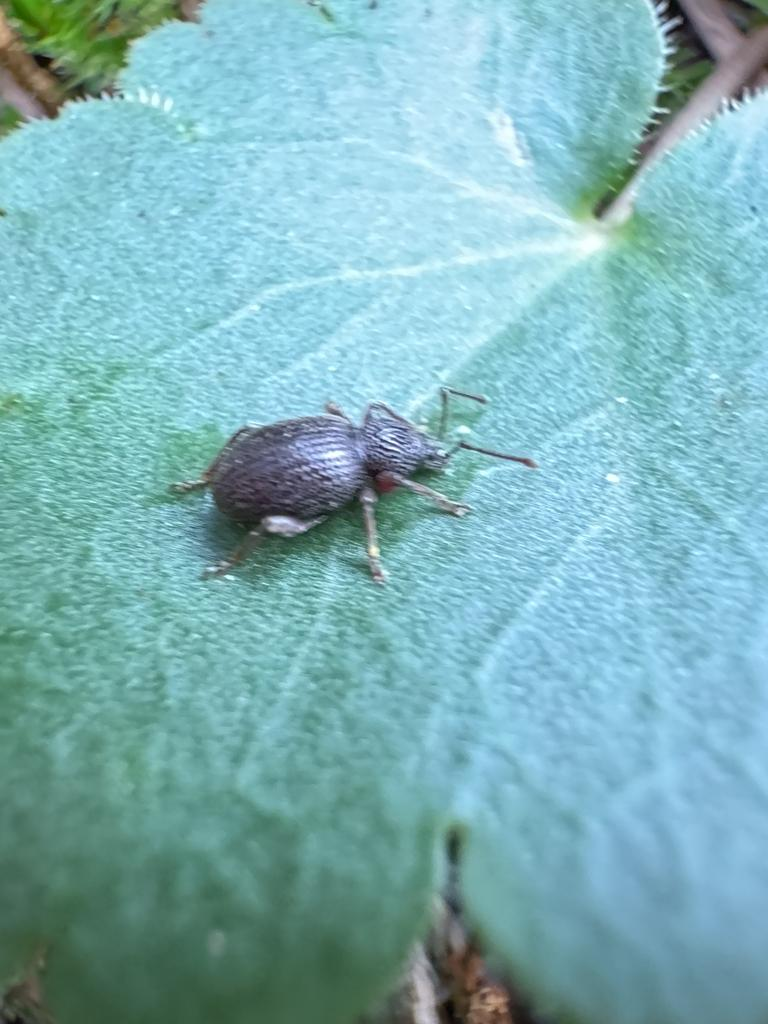weevils: (126, 339, 567, 611)
